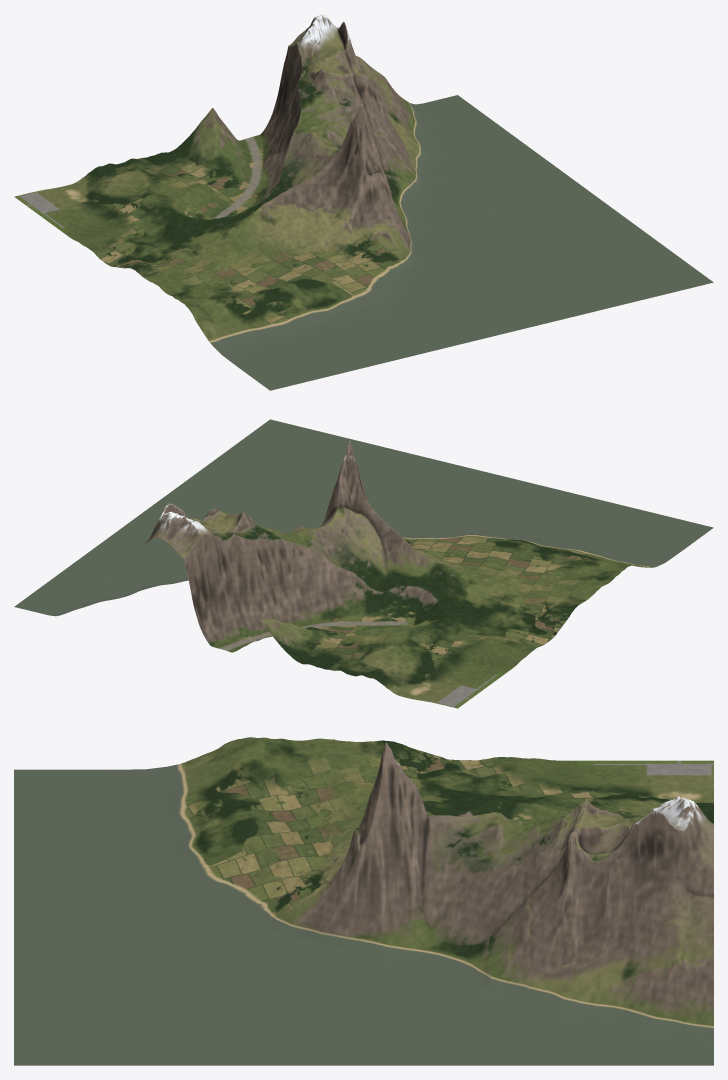
The model's file is terrain-3.glb.
The picture shows the model from 3 angles, top to bottom: view 1: azimuth 30°, elevation 25°; view 2: azimuth 150°, elevation 25°; view 3: azimuth 270°, elevation 25°; orthographic projection. The views are drawn at different scales.
Parts seen in each view (by area): view 1: Terrain 11.3, Terrain 11.2, Terrain 11.0, Terrain 11.1; view 2: Terrain 11.3, Terrain 11.0, Terrain 11.2, Terrain 11.1; view 3: Terrain 11.2, Terrain 11.3, Terrain 11.0, Terrain 11.1.
Part boxes in pixels (left/top/right/bottom): Terrain 11.3: left=206, top=165, right=713, bottom=390; Terrain 11.2: left=142, top=56, right=585, bottom=336; Terrain 11.0: left=14, top=107, right=329, bottom=276; Terrain 11.1: left=236, top=14, right=393, bottom=229; Terrain 11.3: left=142, top=419, right=713, bottom=567; Terrain 11.0: left=245, top=517, right=585, bottom=708; Terrain 11.2: left=14, top=440, right=647, bottom=616; Terrain 11.1: left=142, top=458, right=402, bottom=652; Terrain 11.2: left=189, top=737, right=713, bottom=1065; Terrain 11.3: left=14, top=760, right=363, bottom=1065; Terrain 11.0: left=364, top=740, right=713, bottom=823; Terrain 11.1: left=427, top=796, right=713, bottom=957.
Size of the model in its own units: 5000 by 1416 by 5000.
Materials: 1 (1 with a texture image).
